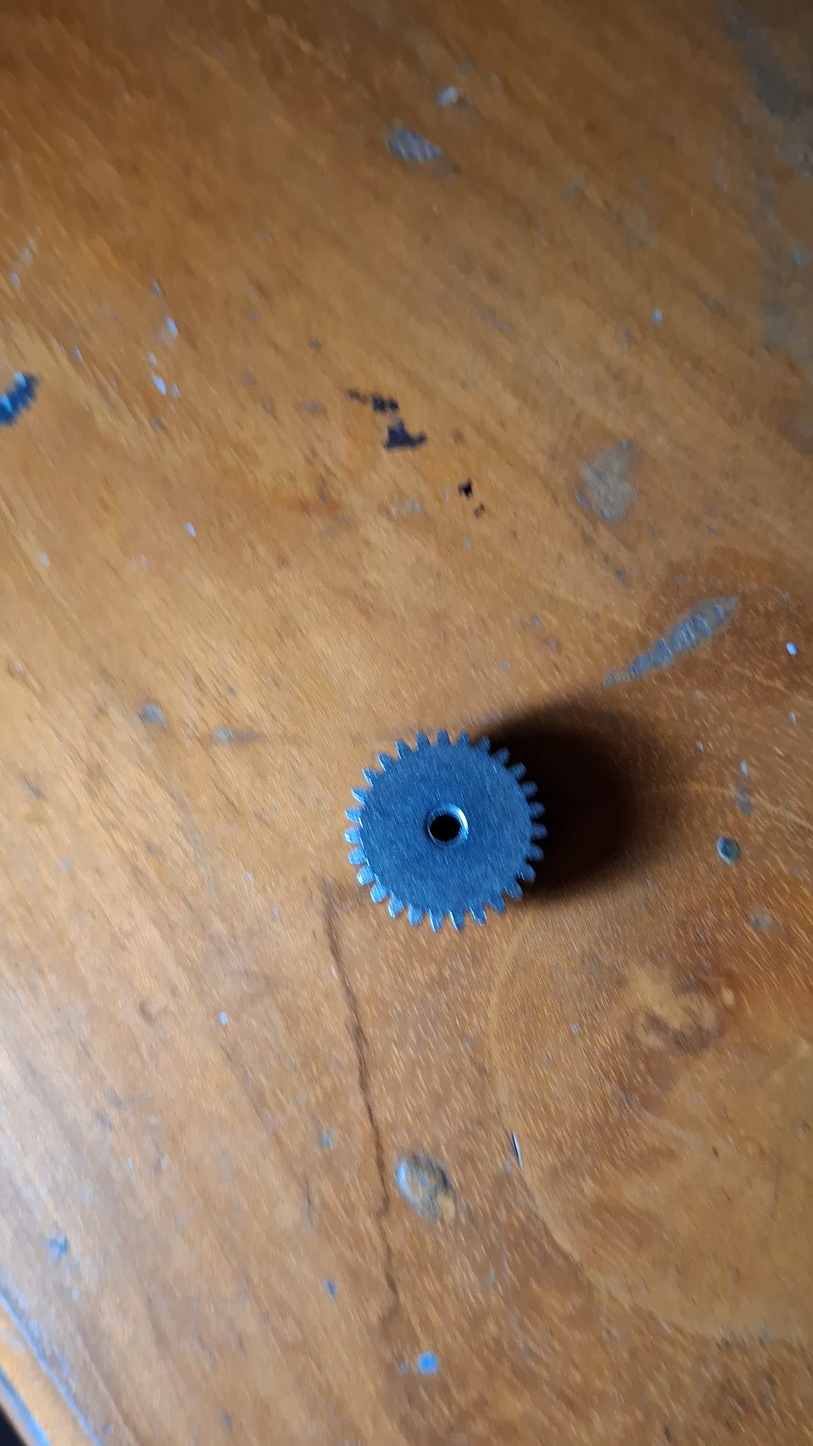spur gear: (345, 730, 545, 930)
